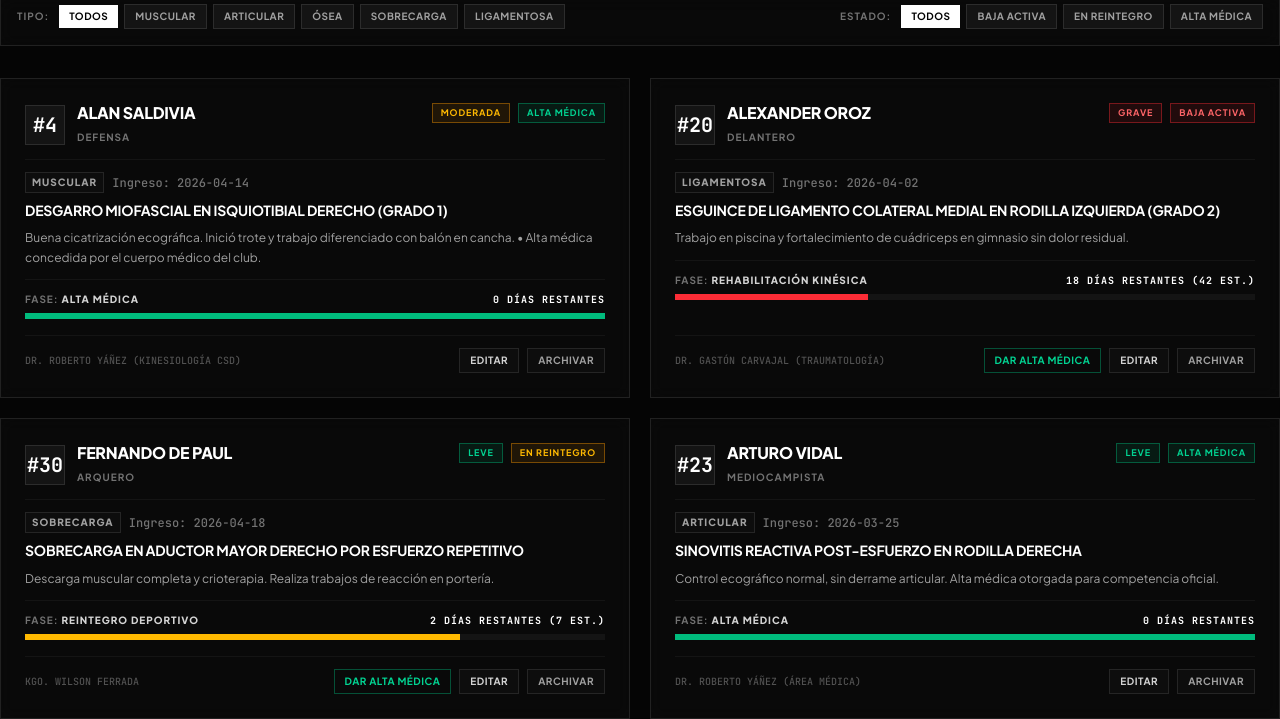
Test: Módulo de Centro Médico y Control de Lesiones (Pantalla 7) › despliega confirmación inline para archivar ficha médica sin usar confirm()
This screenshot has width=1280, height=719.
(page scrolled)
Click the button "Archivar" in the row of "Dr. Roberto Yáñez (Kinesiología CSD)". click: [566, 361]
box: left=527, top=348, right=605, bottom=373
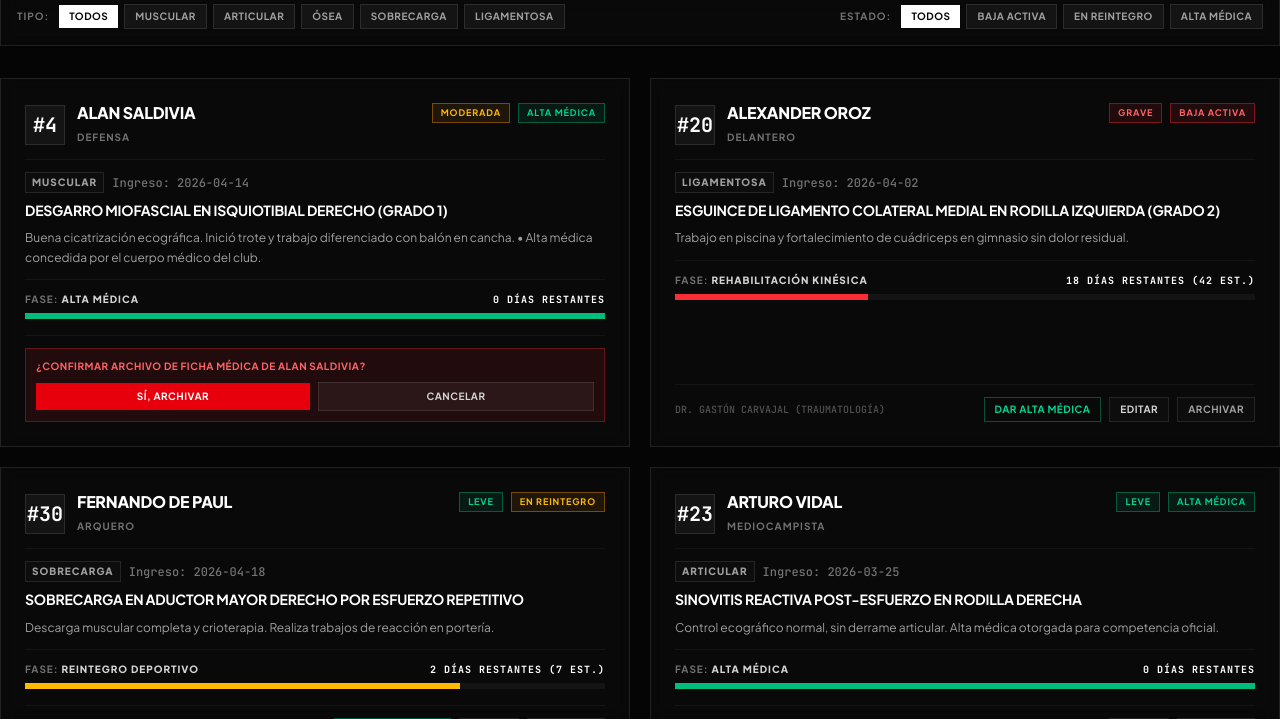
Check: the text "¿Confirmar archivo de ficha médica de Alan Saldivia?" is shown, box left=36, top=360, right=366, bottom=372
Check: the button "Sí, Archivar" is shown, box left=36, top=383, right=310, bottom=410
